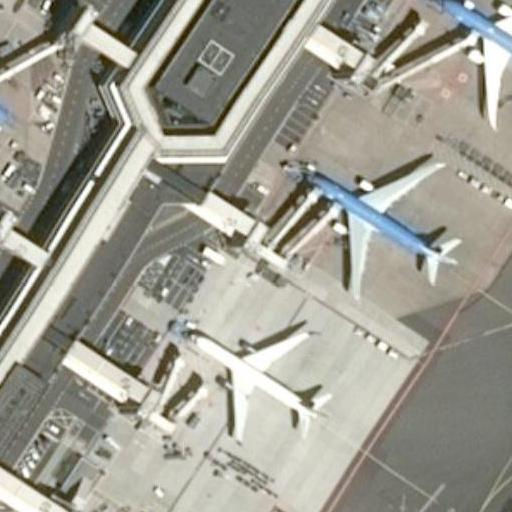Aircraft: (300, 158, 463, 295), (173, 324, 337, 439), (426, 0, 512, 130), (0, 0, 13, 142)
